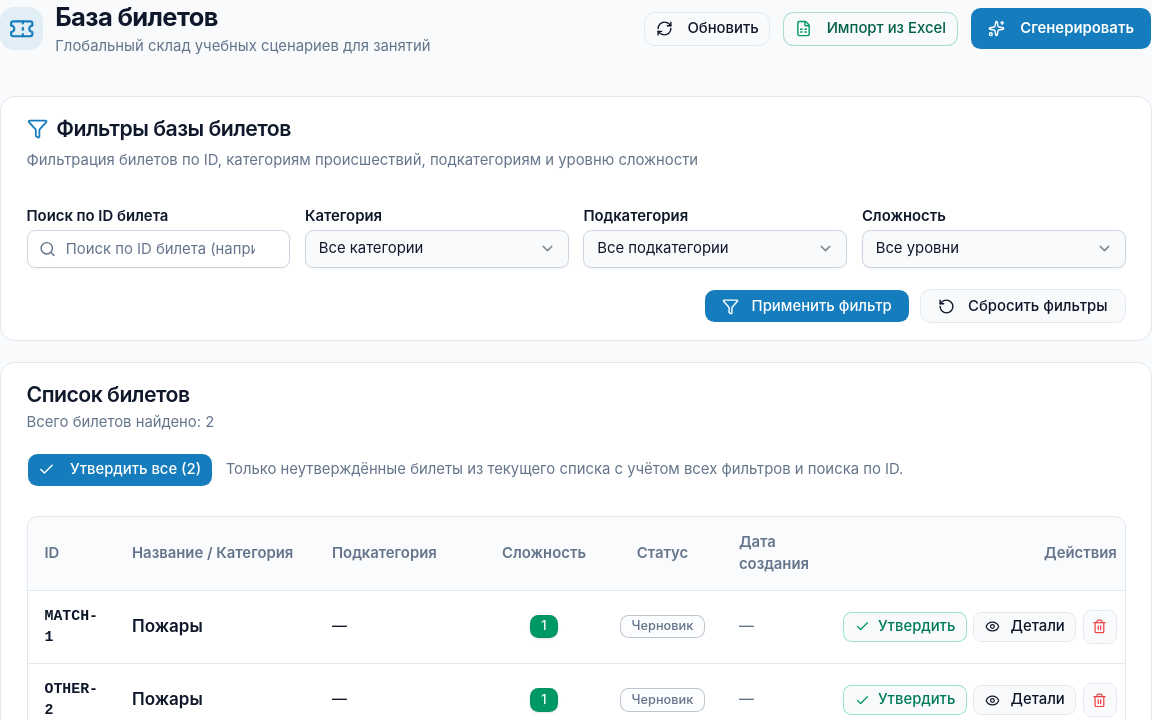
Test: Массовое утверждение билетов › ограничивает пакет текущим поиском по ID
The width and height of the screenshot is (1152, 720).
Expected: the button "Утвердить все (2)" is shown, 26,453 -> 213,487
Type "MATCH" into the field labelled "Поиск по ID билета". click: (158, 249)
box: 26,230 -> 290,268
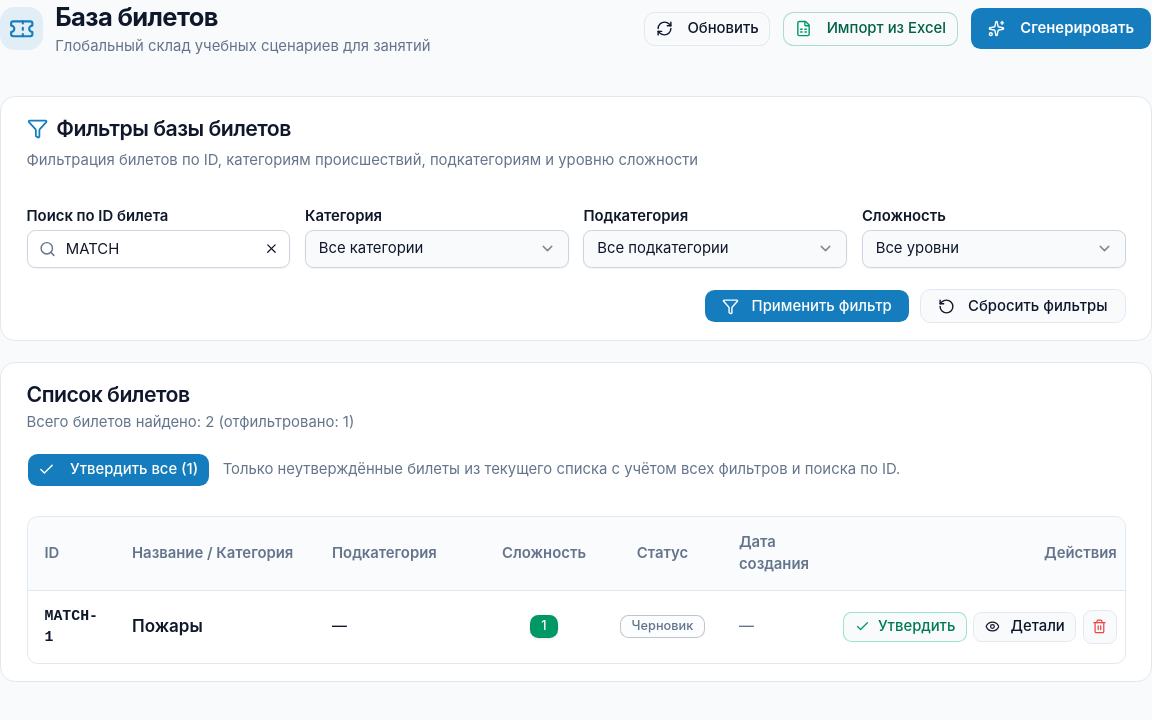
Click the button "Утвердить все (1)". click: (118, 470)
box: 26,453 -> 210,487
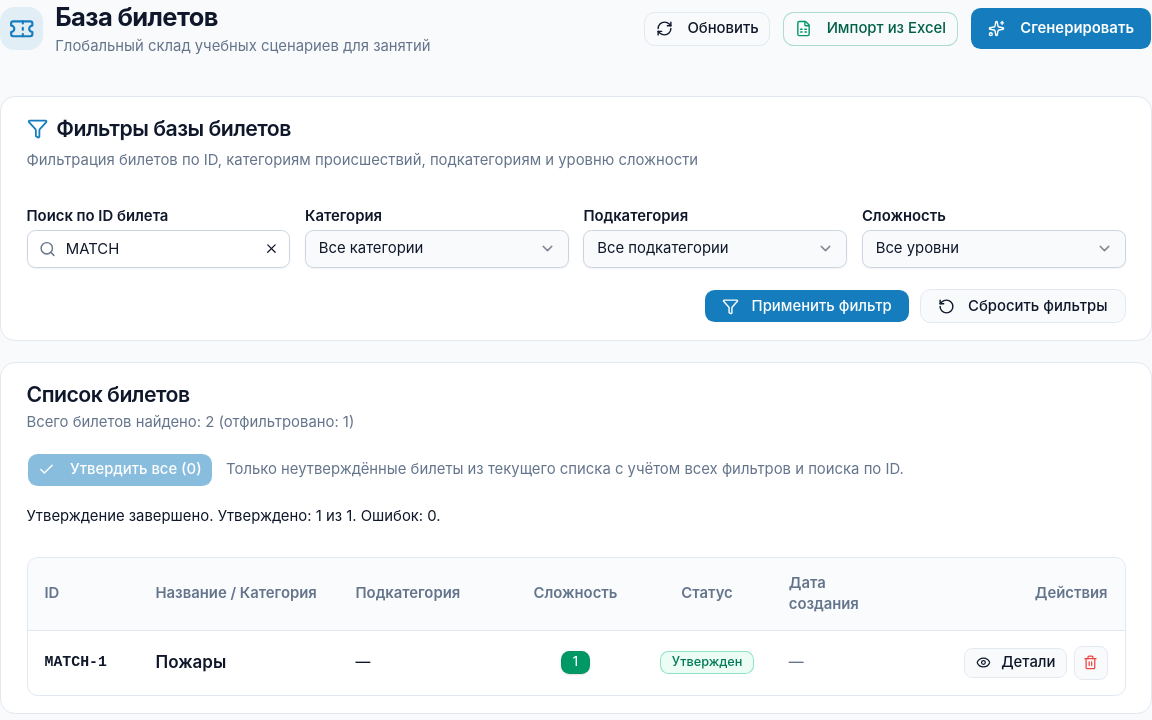
Expected: the text "Утверждение завершено. Утверждено: 1 из 1. Ошибок: 0." is shown, 26,507 -> 441,525
Clear the field labelled "Поиск по ID билета". click: (158, 249)
box: 26,230 -> 290,268
(page scrolled)
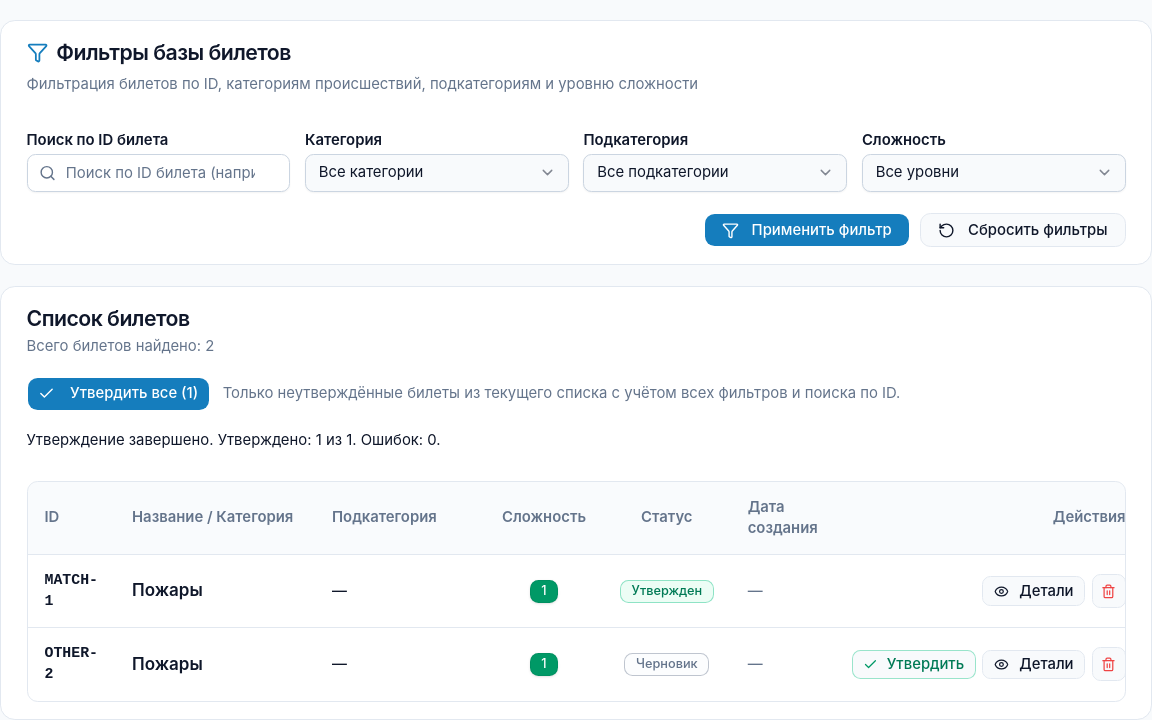
Expected: the button with aria-label "Утвердить билет OTHER-2" is enabled, 852,650 -> 976,679
